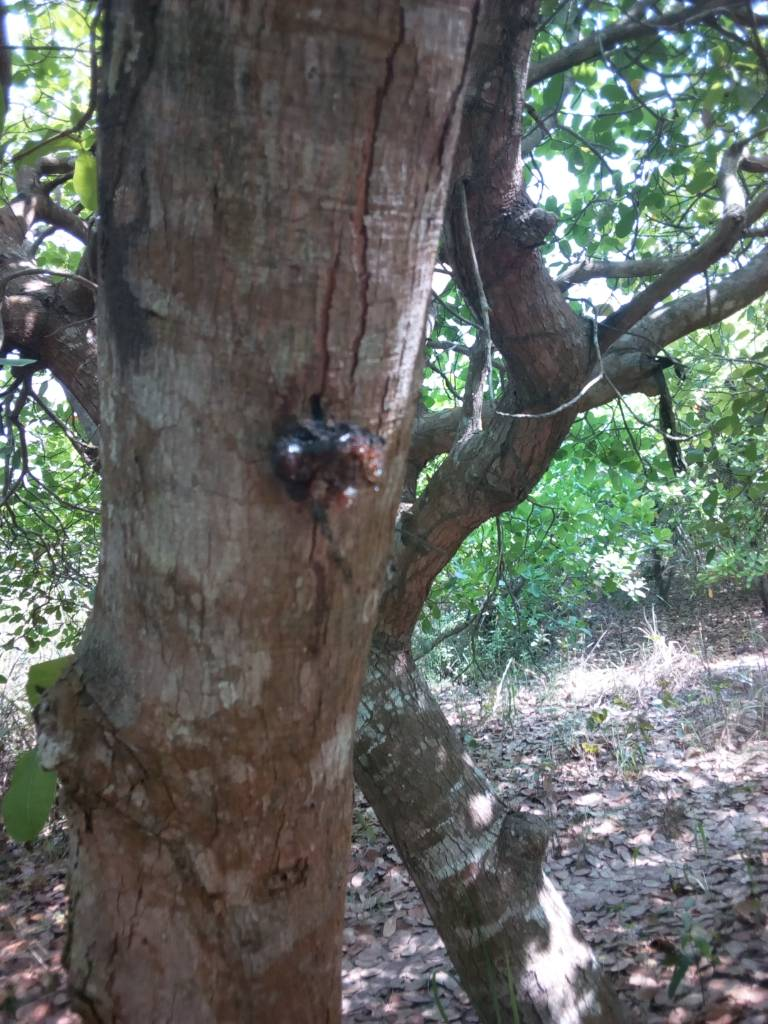Mecocorynus longiceps: (242, 391, 408, 546)
